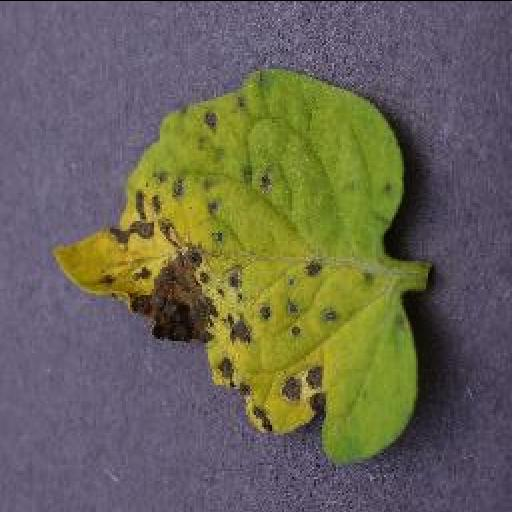disease_tomato: (50, 65, 420, 461)
